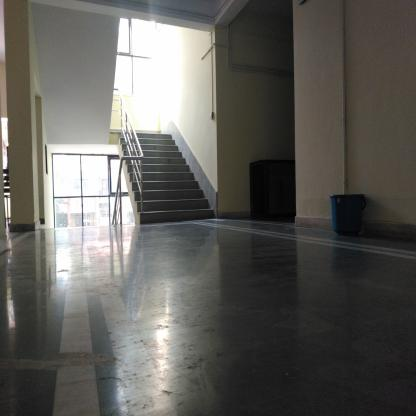stairs: (146, 134, 172, 228)
